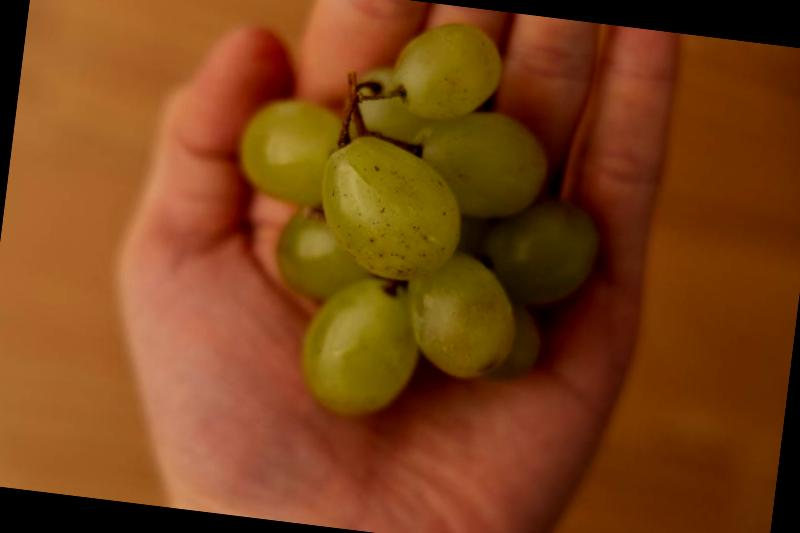Grape Rotten: (207, 0, 626, 443)
